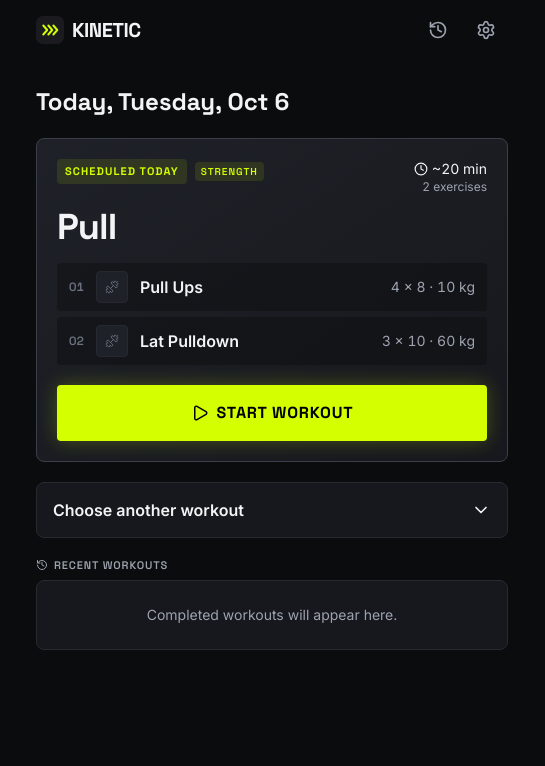
Test case: phone workout flow › starts a workout, completes a set, persists it and starts the rest timer
Click the button "Start workout".
click(272, 413)  # box [57, 385, 487, 441]
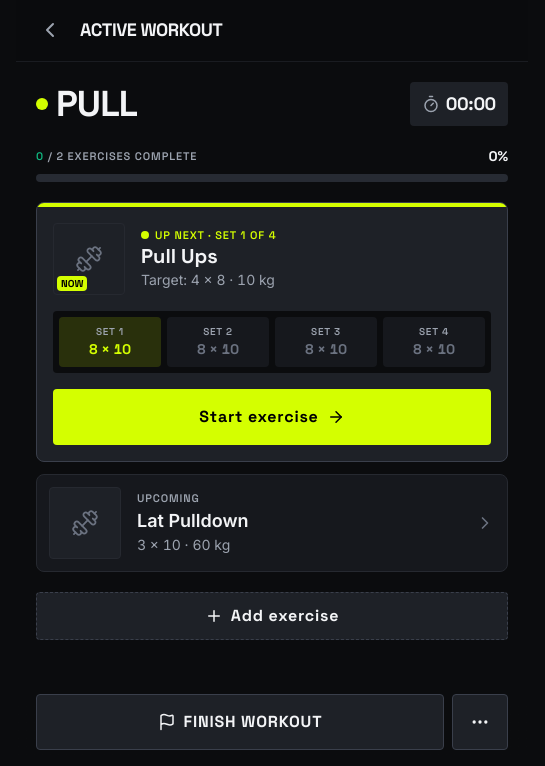
Click the link "Start exercise".
click(272, 417)  # box [53, 389, 491, 445]
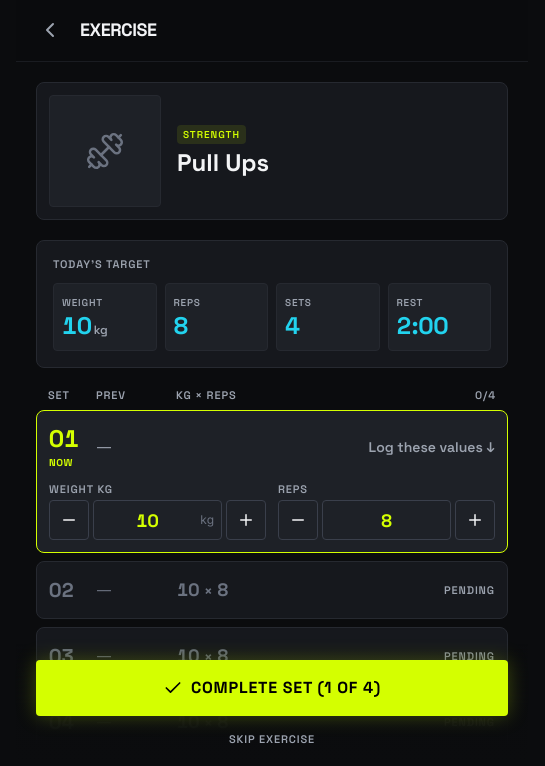
Expected: the heading "Pull Ups" is shown, [177, 146, 269, 178]
Note: Adjust today's reps on the current set, then complete it.
Click the button named "Decrease Reps".
click(298, 520)  # box [278, 500, 318, 540]
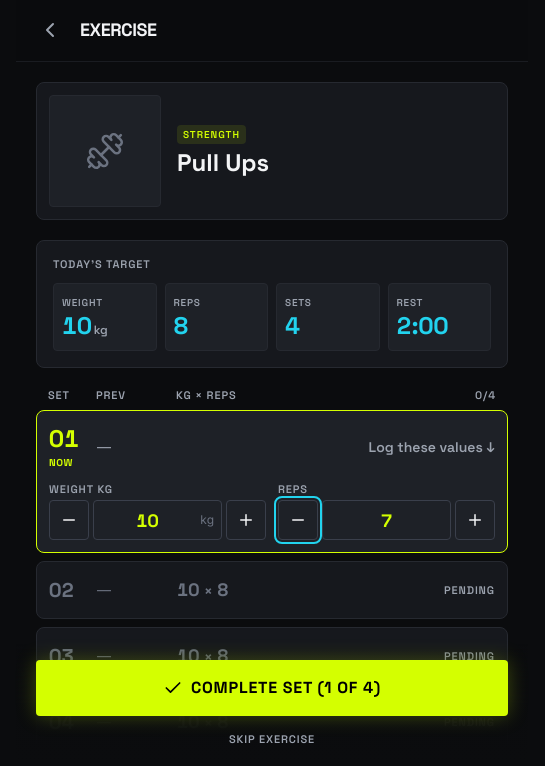
Click the button "Complete set (1 of 4)".
click(272, 688)  # box [36, 660, 508, 716]
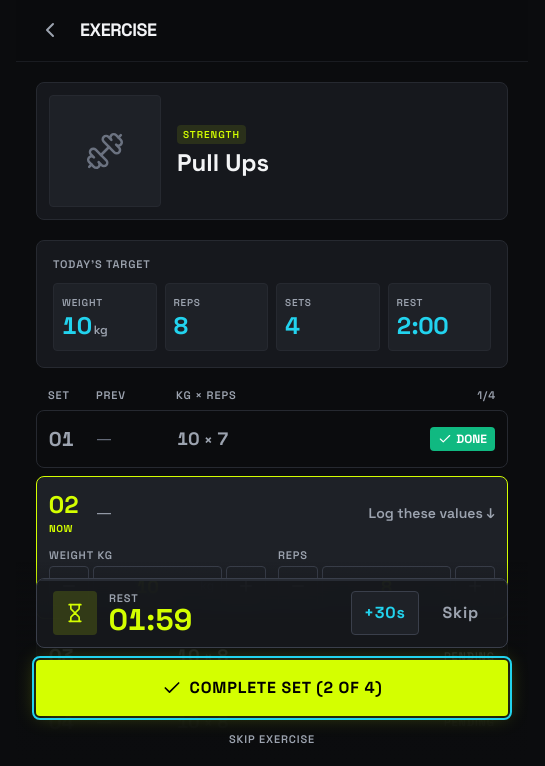
Expected: the element showing "Rest 01:59 +30s Skip" is shown, [36, 578, 508, 648]
Expected: the button "Complete set (2 of 4)" is shown, [36, 660, 508, 716]
